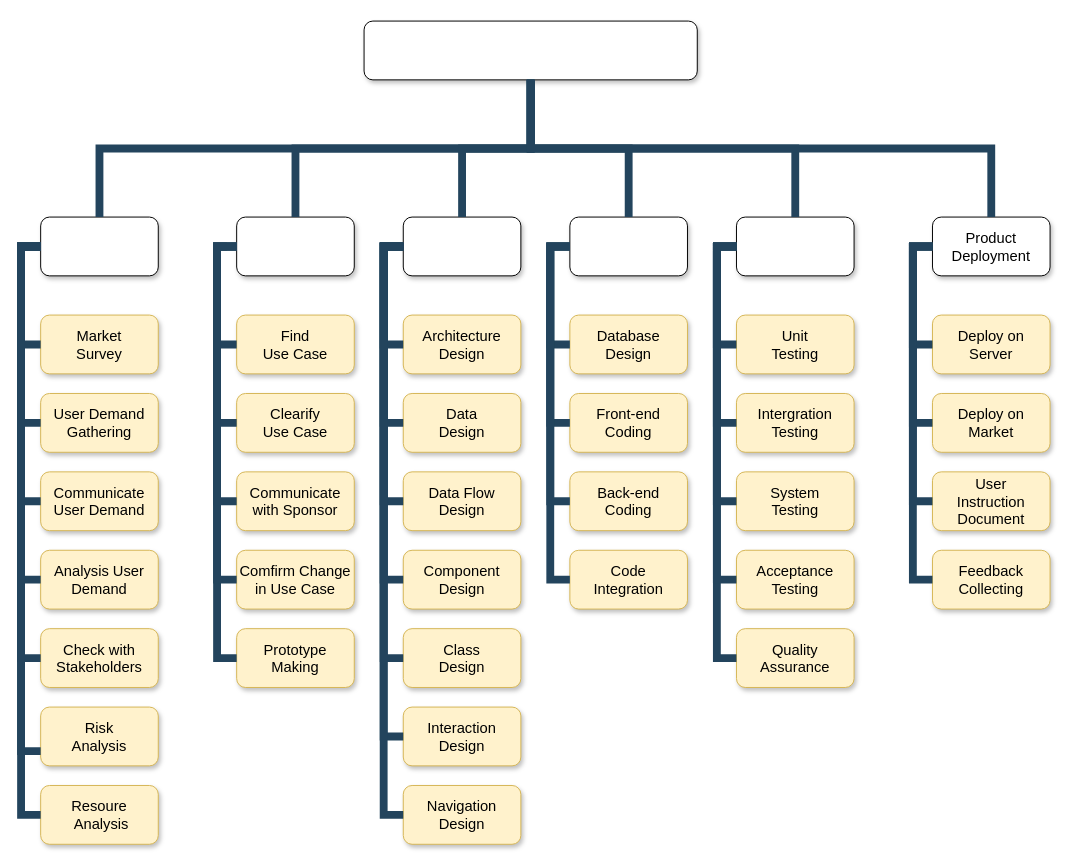
Image size: 1073x868. Some labels were removed from this diagram. The shapes that lost their labels are listed below. From the top down, each one's centre as x and y in pixels, then its label:
At point 531,51: "Online Snack Store".
At point 100,247: "Business Case Analysis".
At point 296,247: "Require Analysis".
At point 462,247: "Product Design".
At point 629,247: "Product Implement".
At point 796,247: "Product Testing".
